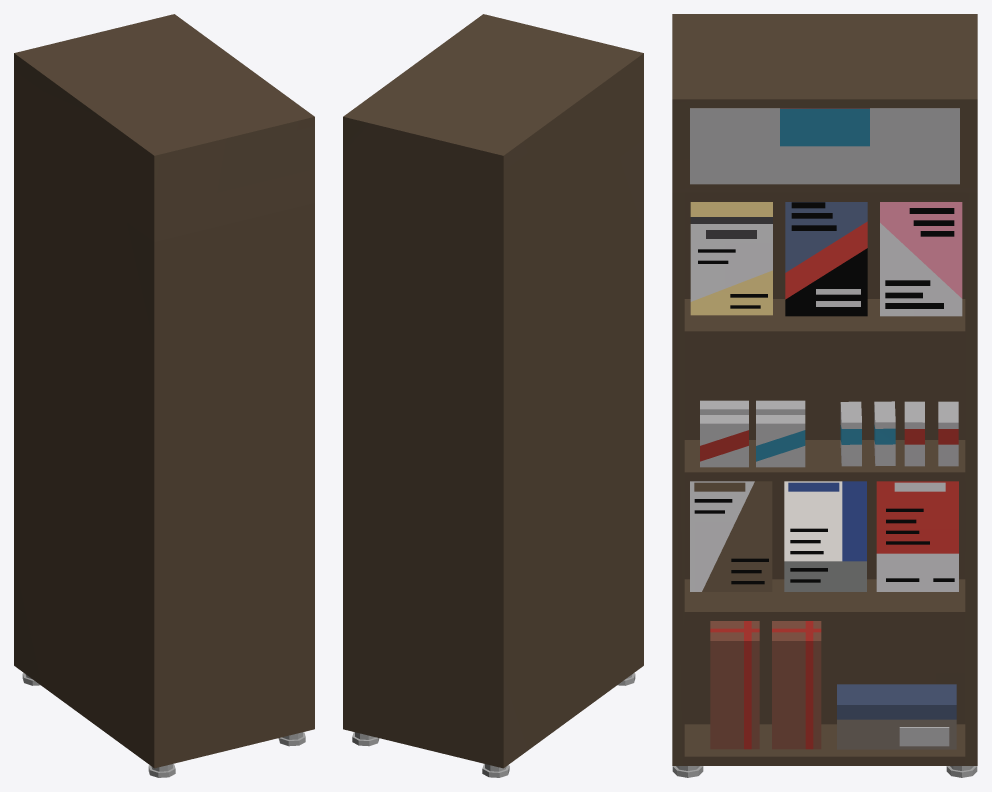
Rendered from SM_shopShelf_01.glb.
3 renders of one model, left to right at view 1: azimuth 30°, elevation 25°; view 2: azimuth 150°, elevation 25°; view 3: azimuth 270°, elevation 25°, orthographic. The views are drawn at different scales.
Visible parts, largest first — view 1: SM_shopShelf_01; view 2: SM_shopShelf_01; view 3: SM_shopShelf_01.
Boxes of the visible parts, x1,y1,x2,y2 form: SM_shopShelf_01: (14, 14, 314, 777); SM_shopShelf_01: (343, 14, 643, 777); SM_shopShelf_01: (672, 14, 977, 777).
Bounding box in the file's own units: 0.6642 × 2.46 × 1.
1 material, 1 textured.
